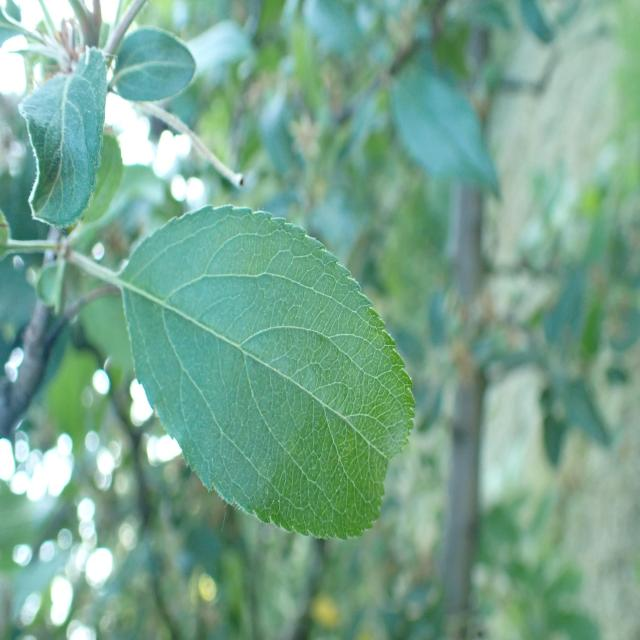healthy: (119, 205, 416, 541), (18, 46, 107, 233), (110, 26, 196, 102)
